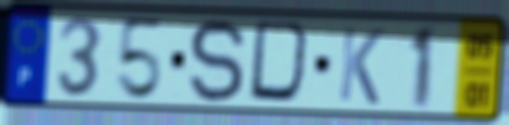1: (407, 21, 443, 114)
3: (55, 14, 107, 101)
5: (112, 16, 169, 103)
D: (246, 18, 318, 109)
K: (336, 24, 387, 108)
S: (187, 16, 249, 107)
